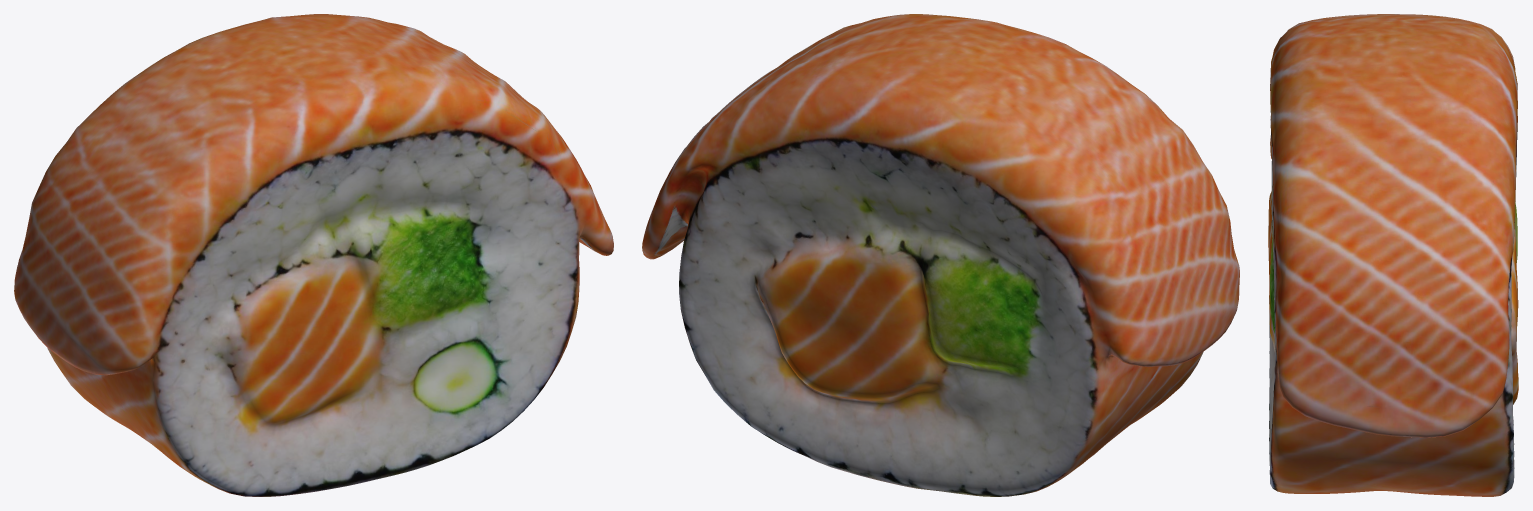
The model's file is sushi.glb.
3 renders of one model, left to right at view 1: azimuth 30°, elevation 25°; view 2: azimuth 150°, elevation 25°; view 3: azimuth 270°, elevation 25°, orthographic.
Parts seen in each view (by area): view 1: mesh_base_material_0; view 2: mesh_base_material_0; view 3: mesh_base_material_0.
Part boxes in pixels (bbox=[...]): mesh_base_material_0: bbox=[14, 14, 613, 496]; mesh_base_material_0: bbox=[642, 14, 1239, 496]; mesh_base_material_0: bbox=[1268, 14, 1518, 496].
Size of the model in its own units: 0.9998 by 0.7261 by 0.4115.
1 material, 1 textured.
